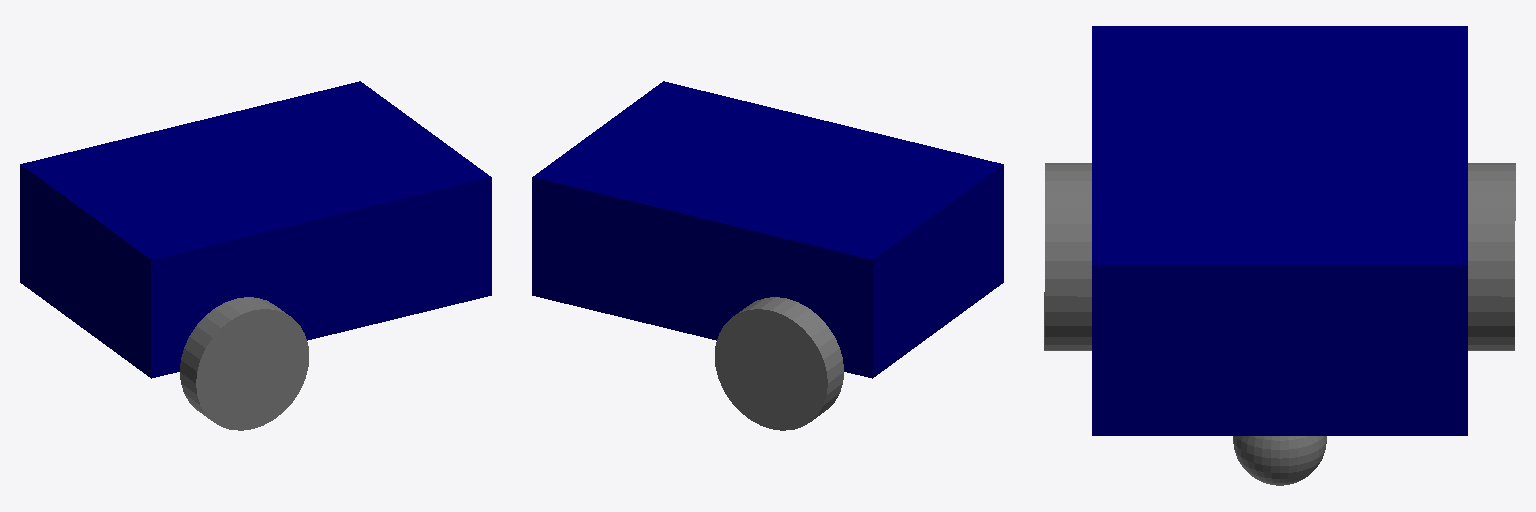
URDF robot description (my_robot):
<?xml version="1.0"?>
<robot name="my_robot">

    <material name="blue">
        <color rgba="0 0 0.5 1" />
    </material>

    <material name="grey">
        <color rgba="0.5 0.5 0.5 1" />
    </material>

    <link name="base_footprint" />

    <link name="base_link">
        <visual>
            <geometry>
                <box size="0.6 0.4 0.2" />
            </geometry>
            <origin xyz="0 0 0.1" rpy="0 0 0" />
            <material name="blue" />
        </visual>
    </link>

    <link name="right_wheel_link">
        <visual>
            <geometry>
                <cylinder radius="0.1" length="0.05" />
            </geometry>
            <origin xyz="0 0 0" rpy="1.57 0 0" />
            <material name="grey" />
        </visual>
    </link>

    <link name="left_wheel_link">
        <visual>
            <geometry>
                <cylinder radius="0.1" length="0.05" />
            </geometry>
            <origin xyz="0 0 0" rpy="1.57 0 0" />
            <material name="grey" />
        </visual>
    </link>

    <link name="caster_wheel_link">
        <visual>
            <geometry>
                <sphere radius="0.05" />
            </geometry>
            <origin xyz="0 0 0" rpy="0 0 0" />
            <material name="grey" />
        </visual>
    </link>

    <joint name="base_joint" type="fixed">
        <parent link="base_footprint" />
        <child link="base_link" />
        <origin xyz="0 0 0.1" rpy="0 0 0"/>
    </joint>

    <joint name="base_right_wheel_joint" type="continuous">
        <parent link="base_link" />
        <child link="right_wheel_link" />
        <origin xyz="-0.15 -0.225 0" rpy="0 0 0" />
        <axis xyz="0 1 0" />
    </joint>

    <joint name="base_left_wheel_joint" type="continuous">
        <parent link="base_link" />
        <child link="left_wheel_link" />
        <origin xyz="-0.15 0.225 0" rpy="0 0 0" />
        <axis xyz="0 1 0" />
    </joint>

    <joint name="base_caster_wheel_joint" type="fixed">
        <parent link="base_link" />
        <child link="caster_wheel_link" />
        <origin xyz="0.2 0 -0.05" rpy="0 0 0" />
    </joint>

</robot>
<!-- ros2 launch urdf_tutorial display.launch.py model:=[local-path]/my_roboot.urdf -->

--- Render facts (derived) ---
The picture shows the robot from 3 angles, left to right: view 1: azimuth 30°, elevation 25°; view 2: azimuth 150°, elevation 25°; view 3: azimuth 270°, elevation 25°; orthographic projection.
Model my_robot with 5 links and 4 joints (2 continuous, 2 fixed), rooted at base_footprint, posed every joint at zero.
Visible links, largest first — view 1: base_link, right_wheel_link; view 2: base_link, left_wheel_link; view 3: base_link, right_wheel_link, left_wheel_link, caster_wheel_link.
Boxes of the visible links, <box> form: base_link: <box>20,81,491,378</box>; right_wheel_link: <box>180,297,308,430</box>; base_link: <box>532,81,1003,378</box>; left_wheel_link: <box>715,297,843,430</box>; base_link: <box>1092,26,1467,435</box>; right_wheel_link: <box>1044,163,1091,350</box>; left_wheel_link: <box>1468,163,1515,350</box>; caster_wheel_link: <box>1233,436,1326,485</box>.
Size in the robot's own frame: 0.6 by 0.5002 by 0.3 metres.
Geometry: primitives only (box / cylinder / sphere), no mesh files.